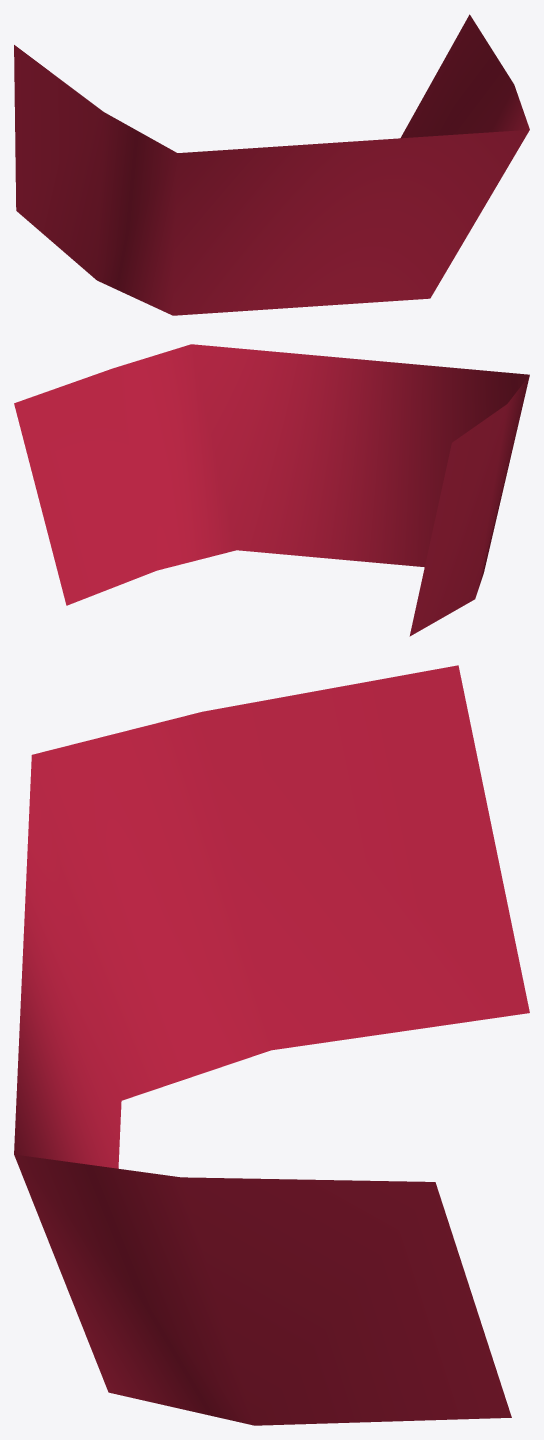
3 views of the same model, one above another, from view 1: azimuth 30°, elevation 25°; view 2: azimuth 150°, elevation 25°; view 3: azimuth 270°, elevation 25° (orthographic). The views are drawn at different scales.
Parts seen in each view (by area): view 1: ef_402; view 2: ef_402; view 3: ef_402.
Part boxes in pixels (x1,y1,x2,y2): ef_402: (14, 14, 529, 315); ef_402: (14, 344, 529, 636); ef_402: (14, 665, 529, 1425).
Size of the model in its own units: 0.7207 by 0.3967 by 0.4075.
1 material, 1 textured.
